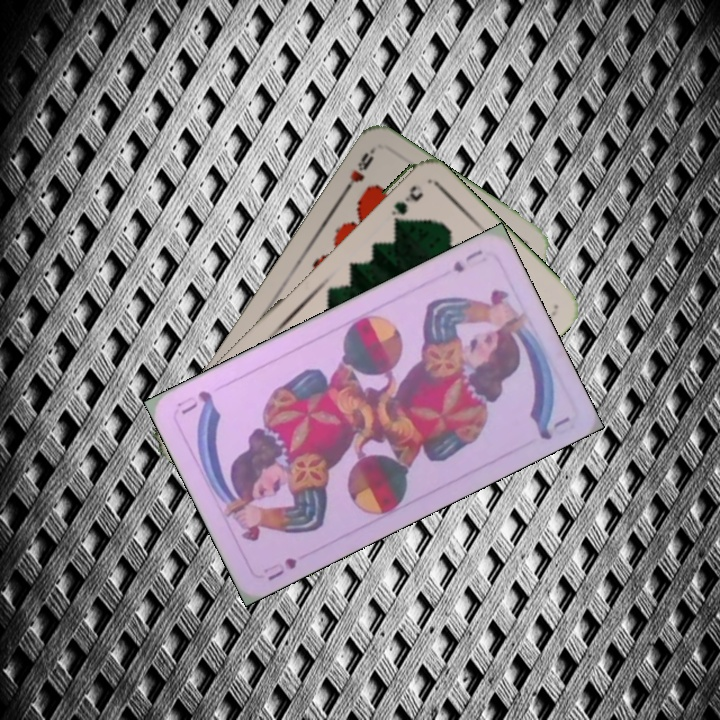G9: (387, 181, 426, 227)
H9: (338, 145, 377, 198)
SU: (263, 553, 300, 584), (449, 245, 486, 275)
